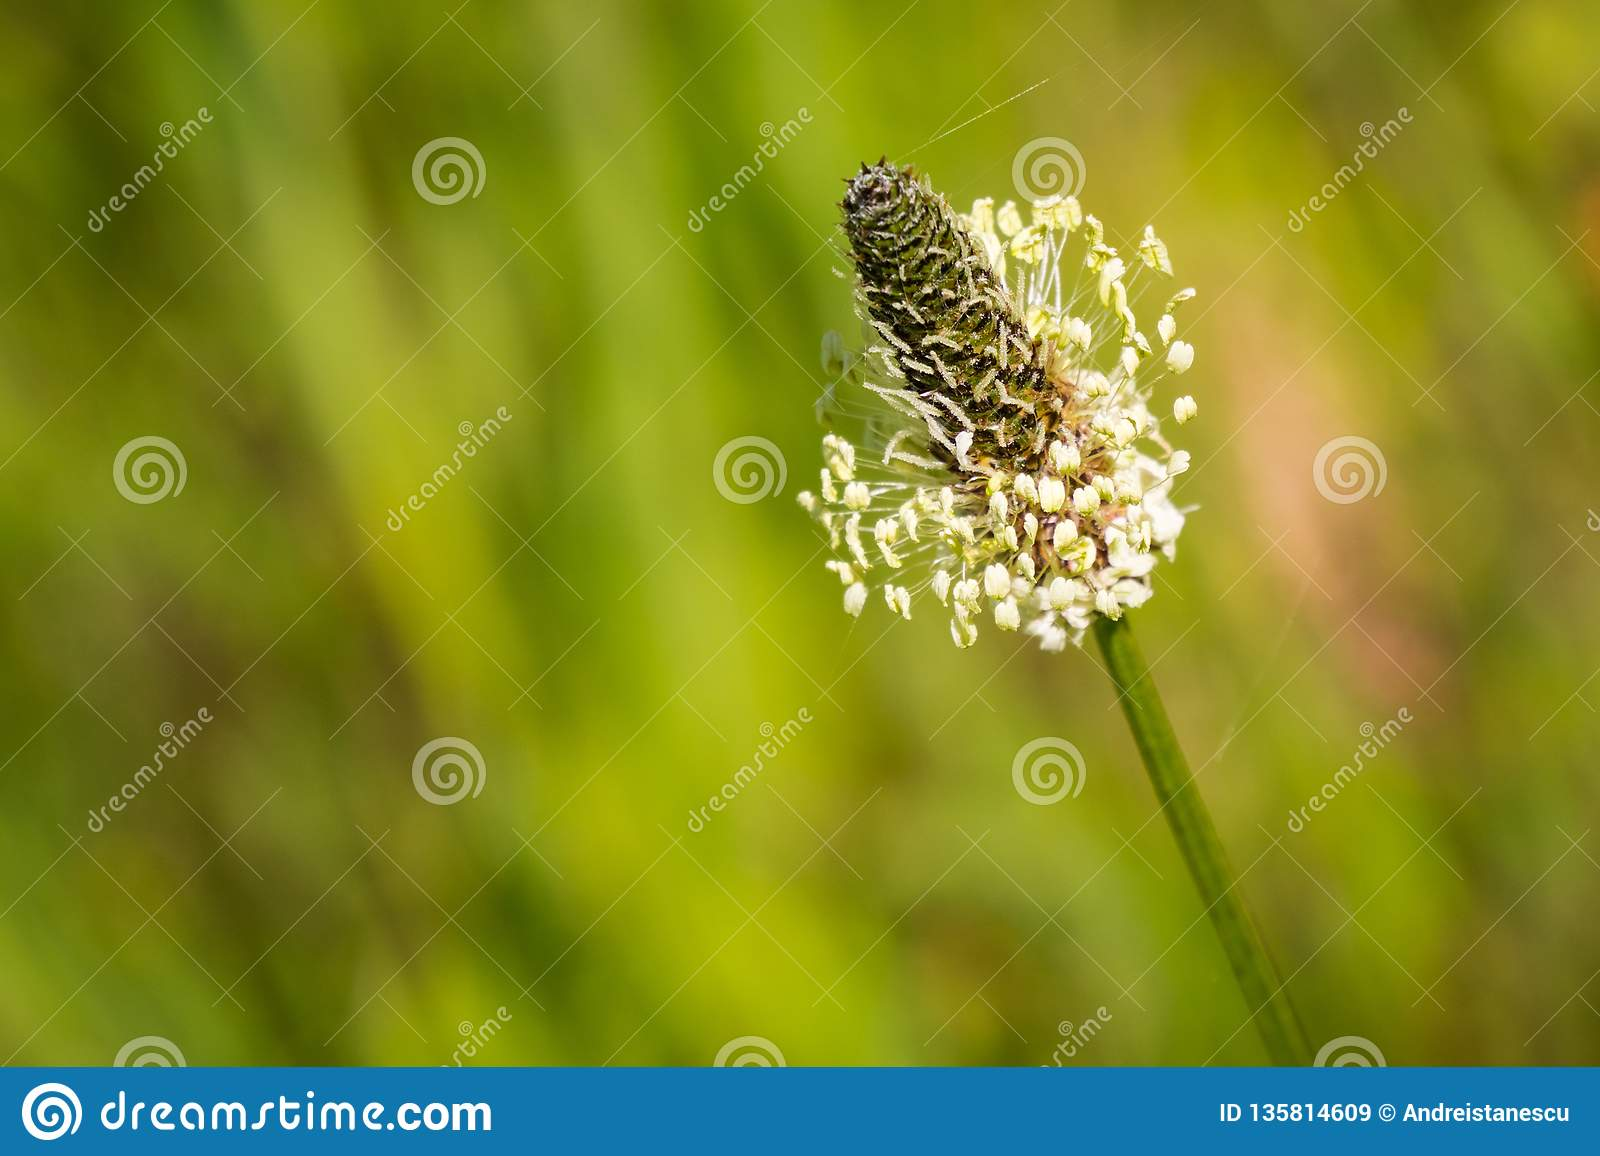buckhorn plantain: (821, 149, 1325, 1005)
